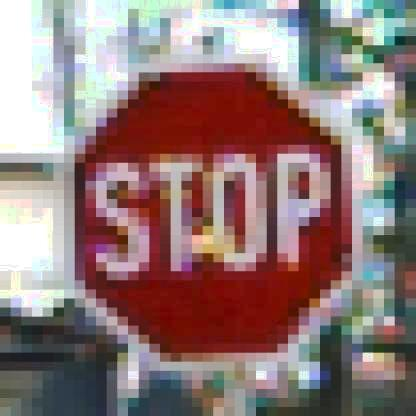Stop Sign: (55, 58, 359, 363)
